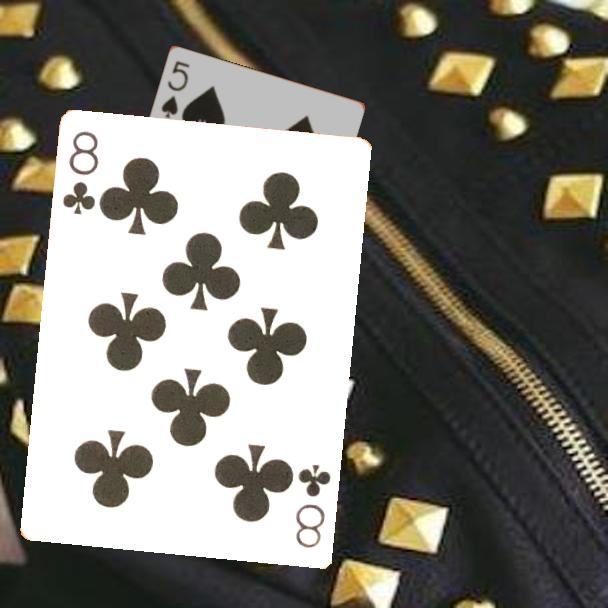c08: (59, 128, 102, 218), (292, 461, 334, 552)
s05: (157, 57, 192, 121)
